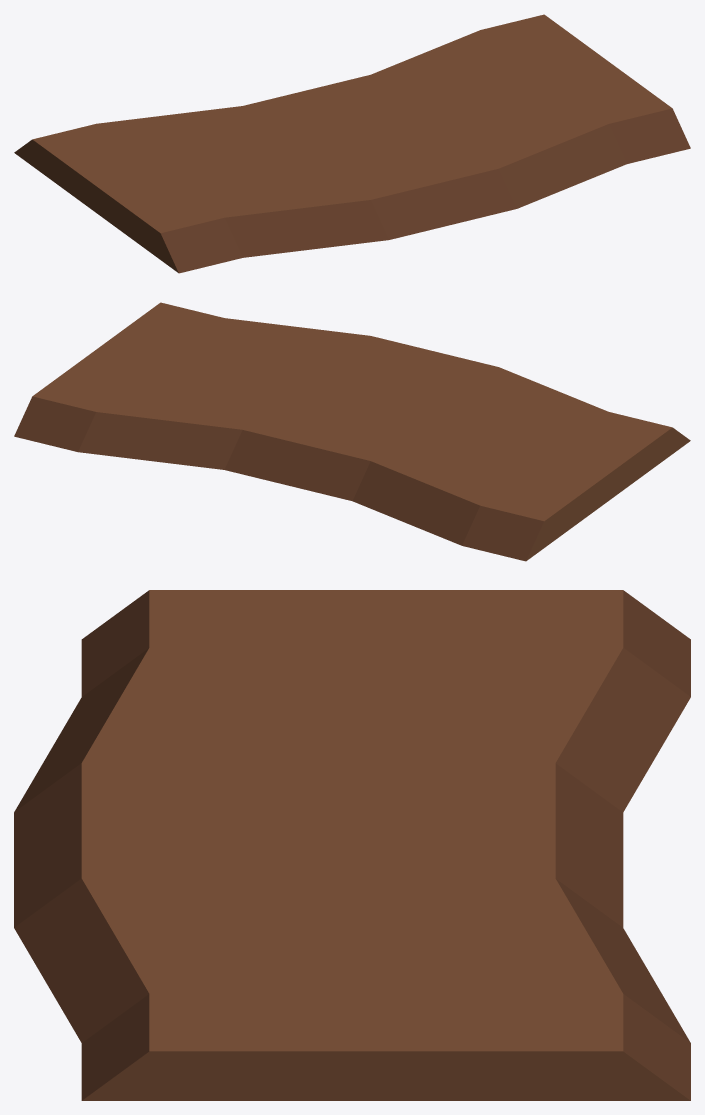
The model's file is crop_row.glb.
The picture shows the model from 3 angles, top to bottom: view 1: azimuth 30°, elevation 25°; view 2: azimuth 150°, elevation 25°; view 3: azimuth 270°, elevation 25°; orthographic projection. The views are drawn at different scales.
Parts seen in each view (by area): view 1: crops_dirtRow; view 2: crops_dirtRow; view 3: crops_dirtRow.
Boxes of the visible parts, x1,y1,x2,y2 form: crops_dirtRow: (14,14,690,273); crops_dirtRow: (14,302,690,561); crops_dirtRow: (14,590,690,1100).
Bounding box in the file's own units: 1 × 0.05 × 0.62.
